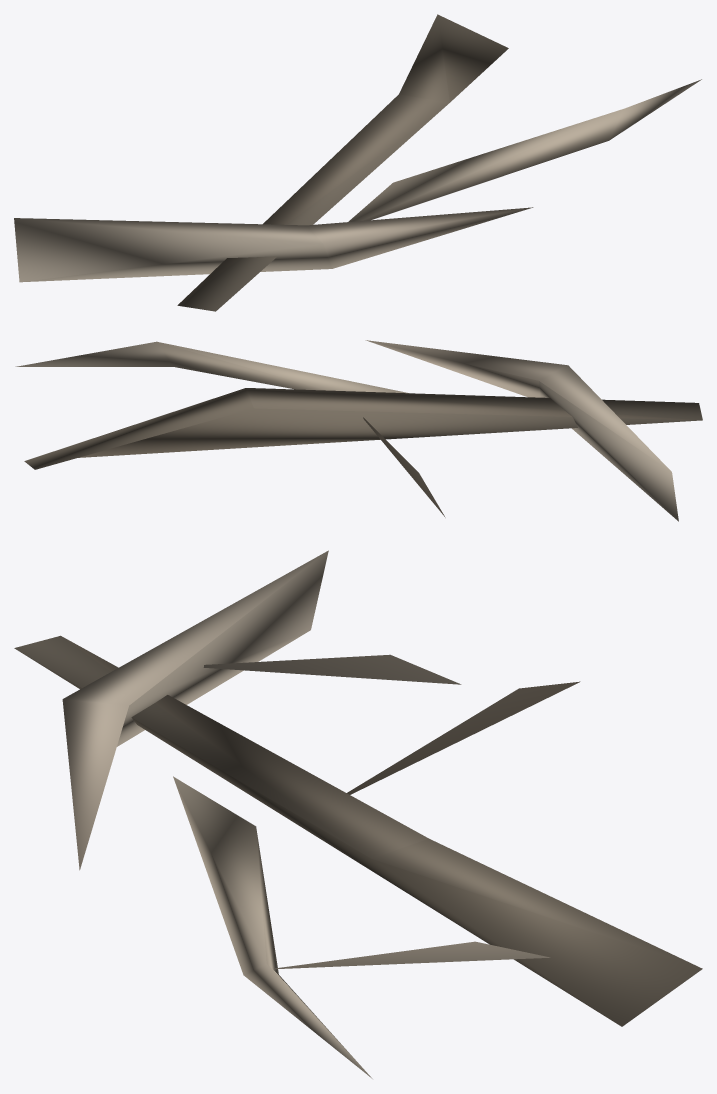
Rendered from shore_gc_twigs_a_lod2.glb.
3 renders of one model, top to bottom at view 1: azimuth 30°, elevation 25°; view 2: azimuth 150°, elevation 25°; view 3: azimuth 270°, elevation 25°, orthographic. The views are drawn at different scales.
Visible parts, largest first — view 1: shore_gc_twigs_a.001; view 2: shore_gc_twigs_a.001; view 3: shore_gc_twigs_a.001.
Boxes of the visible parts, x1,y1,x2,y2 form: shore_gc_twigs_a.001: [14, 14, 701, 311]; shore_gc_twigs_a.001: [15, 340, 702, 521]; shore_gc_twigs_a.001: [14, 550, 702, 1078].
Bounding box in the file's own units: 2.7 × 0.2167 × 1.68.
